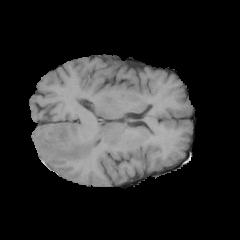glioma: (52, 125, 96, 162)
